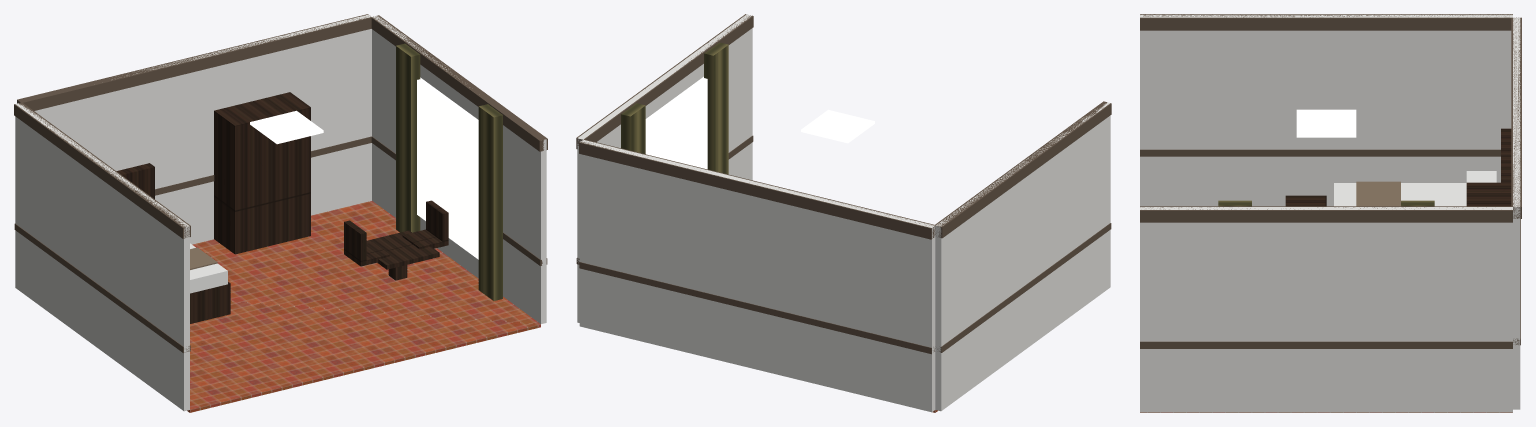
The model's file is damal-room.glb.
3 views of the same model, side by side, from view 1: azimuth 30°, elevation 25°; view 2: azimuth 150°, elevation 25°; view 3: azimuth 270°, elevation 25° (orthographic). The views are drawn at different scales.
Size of the model in its own units: 6.24 by 3.05 by 5.12.
Materials: 9 (3 with a texture image).
